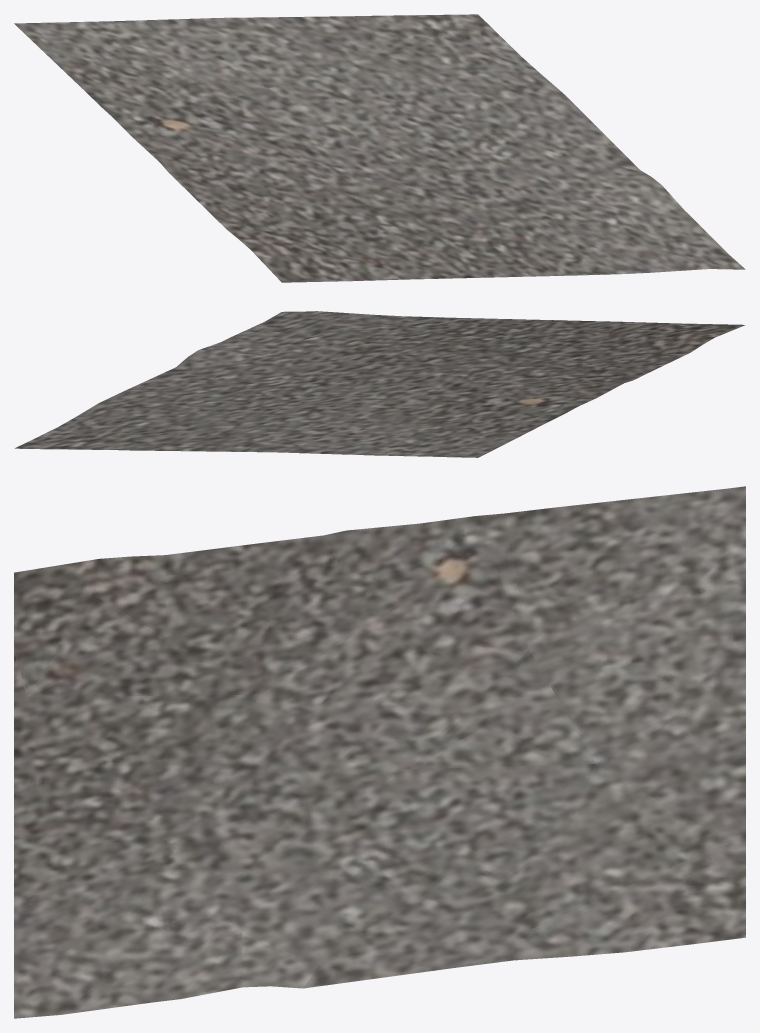
3 views of the same model, one above another, from view 1: azimuth 30°, elevation 25°; view 2: azimuth 150°, elevation 25°; view 3: azimuth 270°, elevation 25° (orthographic). The views are drawn at different scales.
Bounding box in the file's own units: 0.8373 × 0.2816 × 0.8374.
Materials: 3 (3 with a texture image).
